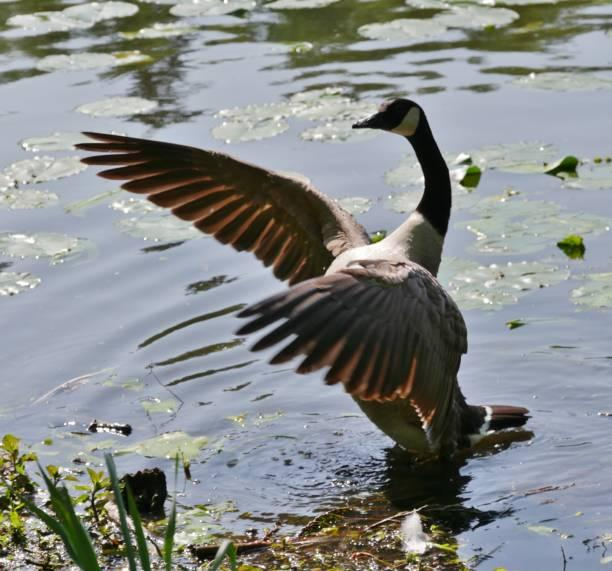Canadian-Goose: (74, 81, 531, 459)
